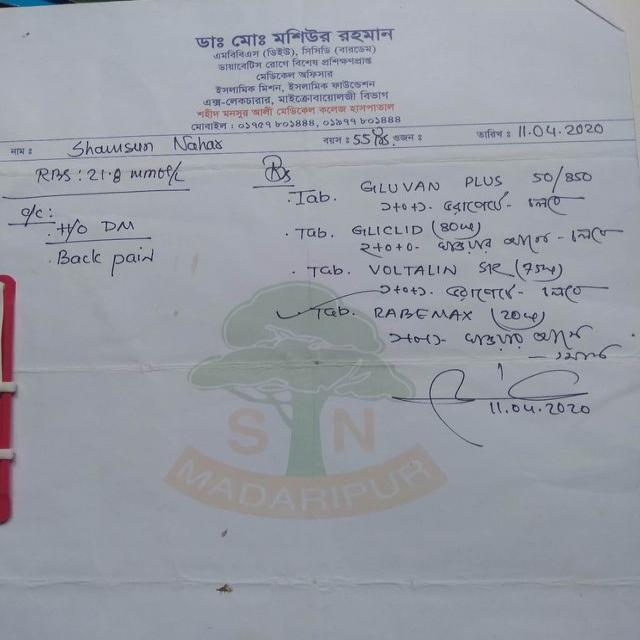Gliclid: (347, 221, 432, 243)
Gluvan Plus: (357, 172, 510, 196)
Rabemax: (367, 301, 483, 328)
Voltalin SR: (365, 258, 512, 283)
